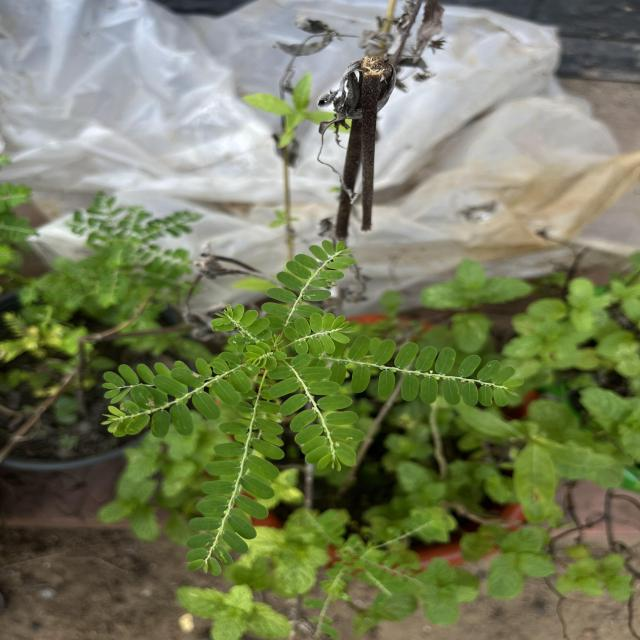Phyllanthus niruri: (182, 402, 288, 576), (298, 331, 518, 408), (103, 354, 263, 440), (268, 352, 362, 472), (260, 235, 356, 328), (276, 310, 353, 360)
